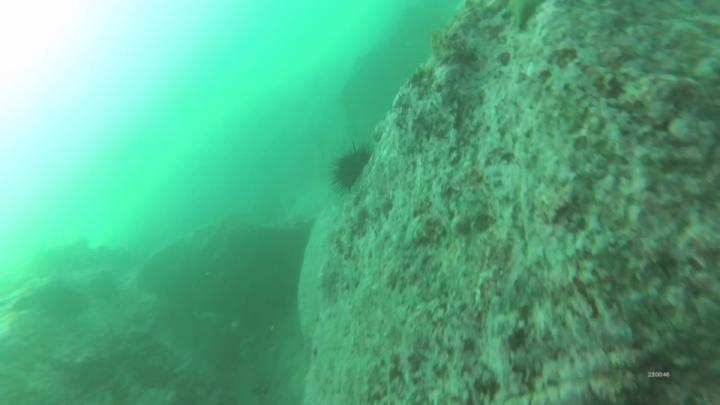echinus: (334, 151, 370, 186)
